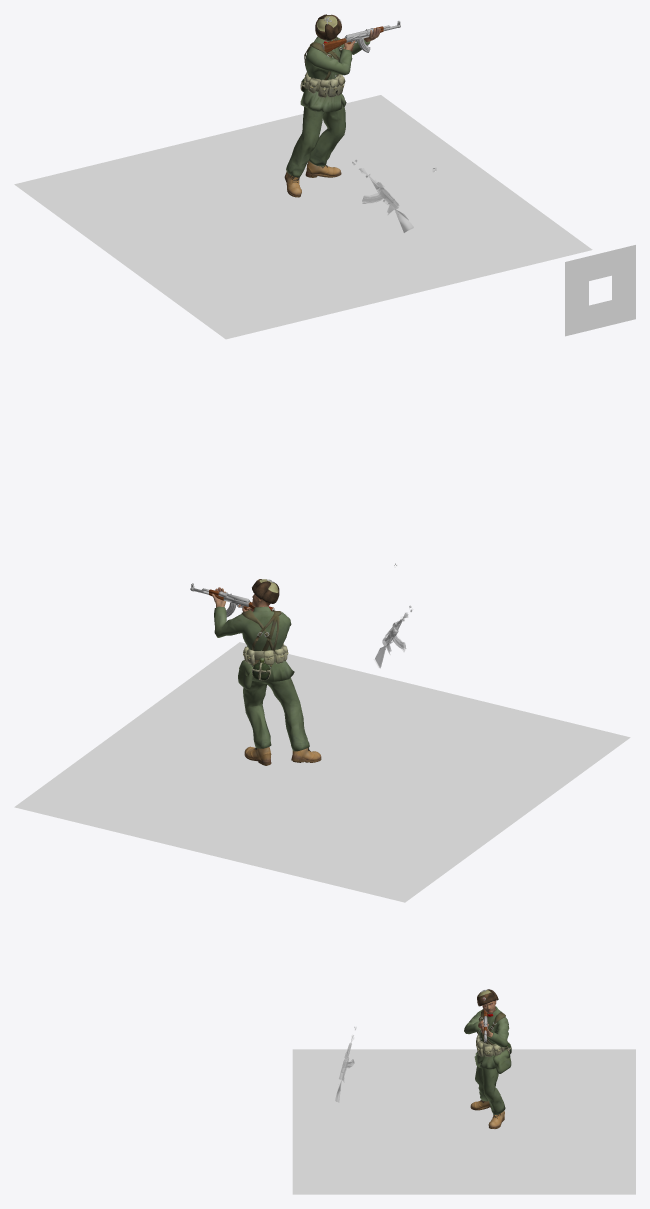
3 views of the same model, one above another, from view 1: azimuth 30°, elevation 25°; view 2: azimuth 150°, elevation 25°; view 3: azimuth 270°, elevation 25° (orthographic). The views are drawn at different scales.
Parts seen in each view (by area): view 1: 平面.001, Border.003, Trousers, UMesh_PM3D_Sphere3D2_3, GR_AK47_1ST, Pouches, Hat; view 2: 平面.001, Trousers, UMesh_PM3D_Sphere3D2_3; view 3: 平面.001, UMesh_PM3D_Sphere3D2_3, Trousers.
Boxes of the visible parts, x1,y1,x2,y2 form: 平面.001: (14, 95, 592, 339); Border.003: (565, 245, 635, 336); Trousers: (286, 107, 345, 177); UMesh_PM3D_Sphere3D2_3: (300, 36, 370, 111); GR_AK47_1ST: (352, 160, 413, 232); Pouches: (304, 72, 345, 97); Hat: (315, 14, 341, 40); 平面.001: (14, 642, 630, 902); Trousers: (243, 677, 309, 751); UMesh_PM3D_Sphere3D2_3: (214, 606, 294, 682); 平面.001: (292, 1049, 635, 1194); UMesh_PM3D_Sphere3D2_3: (464, 1006, 509, 1069); Trousers: (475, 1066, 505, 1114).
Size of the model in its own units: 22.07 by 10.51 by 39.97.
Materials: 77 (17 with a texture image).
